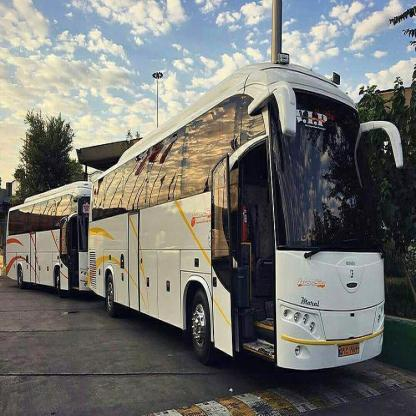Bus: (92, 80, 410, 386), (7, 180, 102, 296)
